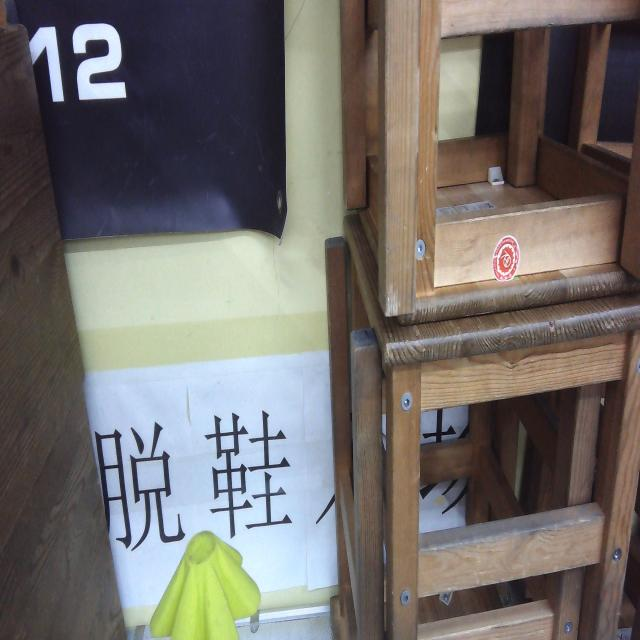Yellow-Stake-Head: (148, 530, 262, 640)
